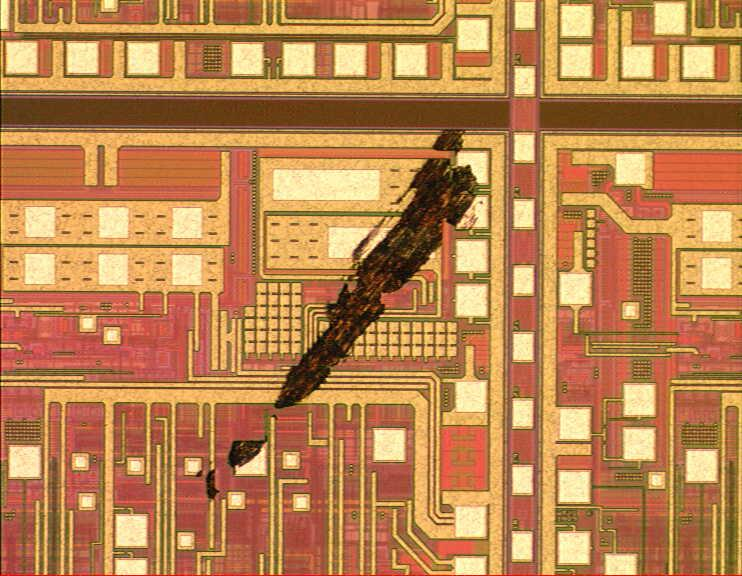SCRATCH: (185, 128, 491, 510)
